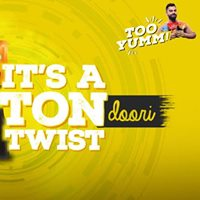tooyumm: (116, 21, 171, 52)
